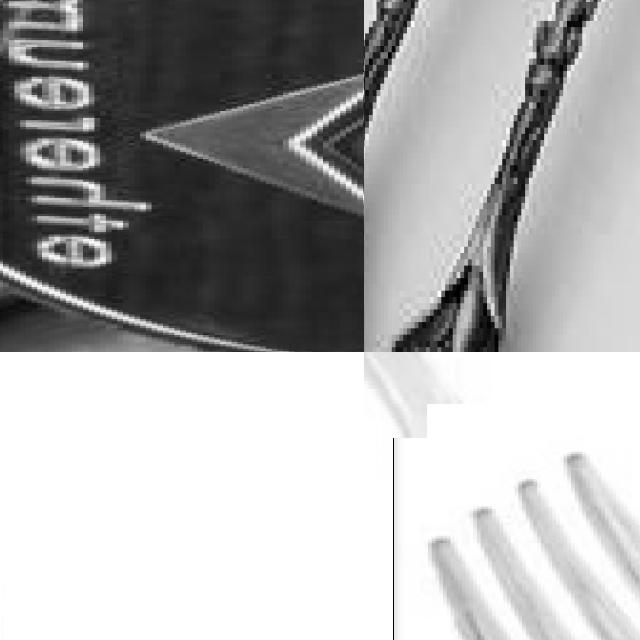forks: (0, 0, 364, 352), (410, 421, 640, 640)
